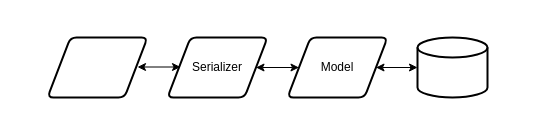
This 534x134 diagram has some shape labels left out. Here are the shapes that lost their labels. From the top down, the box of each, then its label:
(46, 36, 148, 98): JSON
(416, 36, 488, 98): Database
